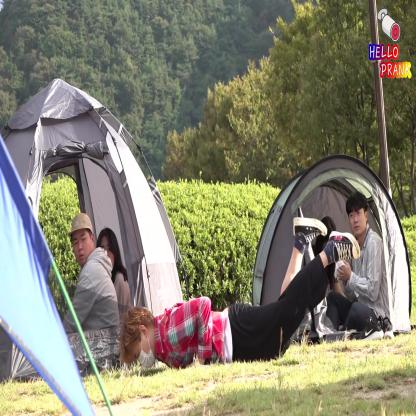Fall_Down: (120, 214, 360, 372)
